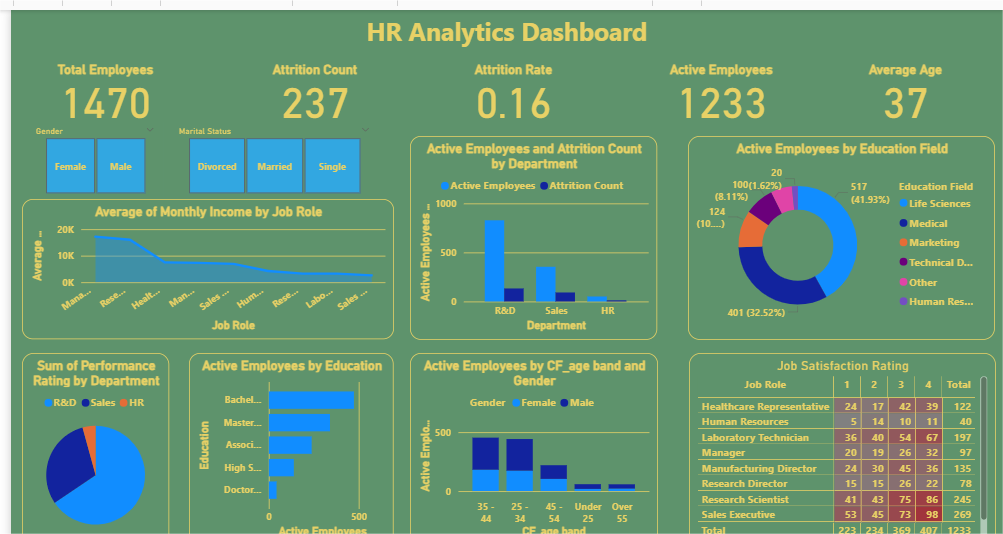

The page's visual inventory and layout, read from the dashboard file:
{"tool":"powerbi","page":{"name":"Page 1","canvas":[1280,720],"ordinal":0},"visuals":[{"type":"card","title":"Total Employees","fields":{"Values":["Sum(HR data.Employee Count)"]},"box":[39.9,67.4,163.8,95],"z":0},{"type":"card","title":"Attrition Count","fields":{"Values":["Sum(HR data.Attrition Count)"]},"box":[309.7,67.4,165.2,95],"z":1000},{"type":"card","title":"Attrition Rate","fields":{"Values":["HR data.Attrition Rate"]},"box":[565.7,67.4,166.5,95],"z":2000},{"type":"card","title":"Active Employees","fields":{"Values":["HR data.Active Employees"]},"box":[835.4,67.4,163.8,95],"z":3000},{"type":"card","title":"Average Age","fields":{"Values":["Avg(HR data.Age)"]},"box":[1072.2,67.4,163.8,95],"z":4000},{"type":"clusteredColumnChart","fields":{"Y":["HR data.Active Employees","Sum(HR data.Attrition Count)"],"Category":["HR data.Department"]},"box":[514.8,162.4,319.3,262.9],"z":5000},{"type":"donutChart","fields":{"Category":["HR data.Education Field"],"Y":["HR data.Active Employees"]},"box":[874,162.4,396.4,262.9],"z":6000},{"type":"columnChart","fields":{"Category":["HR data.CF_age band"],"Y":["HR data.Active Employees"],"Series":["HR data.Gender"]},"box":[514.3,442.9,320,248.6],"z":7000},{"type":"pivotTable","title":"Job Satisfaction Rating","fields":{"Rows":["HR data.Job Role"],"Columns":["HR data.Job Satisfaction"],"Values":["HR data.Active Employees"]},"box":[874.3,442.9,395.7,248.6],"z":8000},{"type":"pieChart","fields":{"Y":["Sum(HR data.Performance Rating)"],"Category":["HR data.Department"]},"box":[14.3,442.9,190,248.6],"z":9000},{"type":"clusteredBarChart","fields":{"Category":["HR data.Education"],"Y":["HR data.Active Employees"]},"box":[230,442.9,264.3,248.6],"z":10000},{"type":"areaChart","fields":{"Category":["HR data.Job Role"],"Y":["Avg(HR data.Monthly Income)"]},"box":[14.3,244.3,480,181.4],"z":11000},{"type":"slicer","fields":{"Values":["HR data.Gender"]},"box":[19.3,144.5,177.5,99.1],"z":12000},{"type":"slicer","fields":{"Values":["HR data.Marital Status"]},"box":[203.7,144.5,271.1,99.1],"z":13000},{"type":"textbox","box":[0,0,1280,55.1],"z":14000}]}

Visuals, with their boxes on the page's 1280x720 design canvas (x1, y1, x2, y2). These are canvas units, not pixel positions in the 1003x534 screenshot, which may show the page scaled, cropped or inside an application window:
"Total Employees" card: BBox(40, 67, 204, 162)
"Attrition Count" card: BBox(310, 67, 475, 162)
"Attrition Rate" card: BBox(566, 67, 732, 162)
"Active Employees" card: BBox(835, 67, 999, 162)
"Average Age" card: BBox(1072, 67, 1236, 162)
clusteredColumnChart - HR data.Active Employees x Sum(HR data.Attrition Count): BBox(515, 162, 834, 425)
donutChart - HR data.Education Field x HR data.Active Employees: BBox(874, 162, 1270, 425)
columnChart - HR data.CF_age band x HR data.Active Employees: BBox(514, 443, 834, 692)
"Job Satisfaction Rating" pivotTable: BBox(874, 443, 1270, 692)
pieChart - Sum(HR data.Performance Rating) x HR data.Department: BBox(14, 443, 204, 692)
clusteredBarChart - HR data.Education x HR data.Active Employees: BBox(230, 443, 494, 692)
areaChart - HR data.Job Role x Avg(HR data.Monthly Income): BBox(14, 244, 494, 426)
slicer - HR data.Gender: BBox(19, 144, 197, 244)
slicer - HR data.Marital Status: BBox(204, 144, 475, 244)
textbox: BBox(0, 0, 1280, 55)
